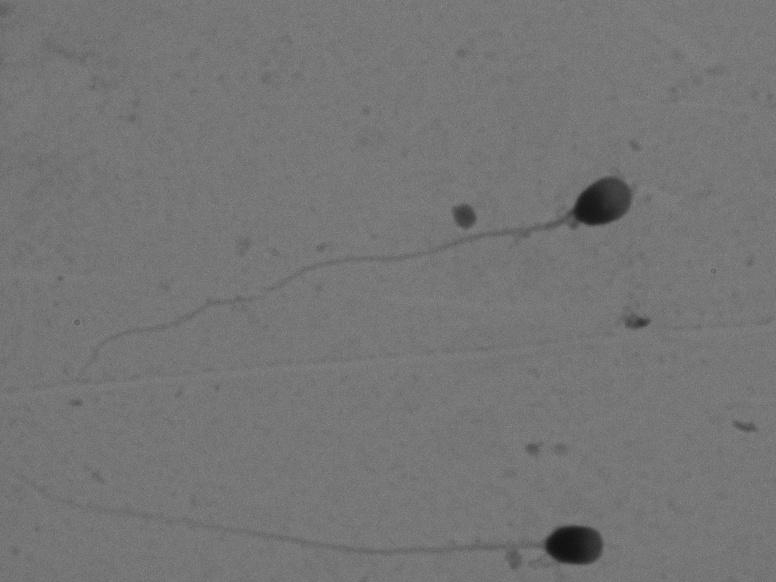Abnormal: (55, 157, 661, 410)
Normal: (12, 470, 641, 575)
